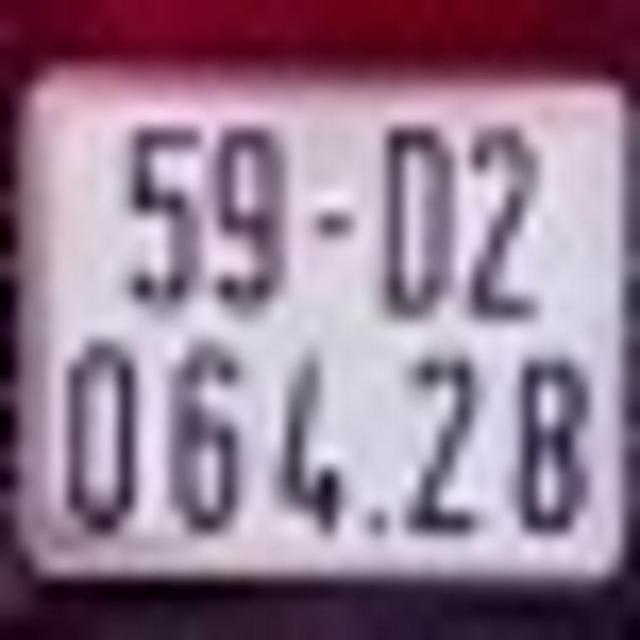0: (67, 338, 137, 536)
2: (466, 124, 540, 323), (408, 358, 486, 540)
4: (272, 348, 347, 540)
5: (128, 122, 202, 301)
6: (167, 336, 243, 531)
8: (517, 359, 591, 536)
9: (212, 127, 286, 306)
D: (380, 123, 450, 320)
